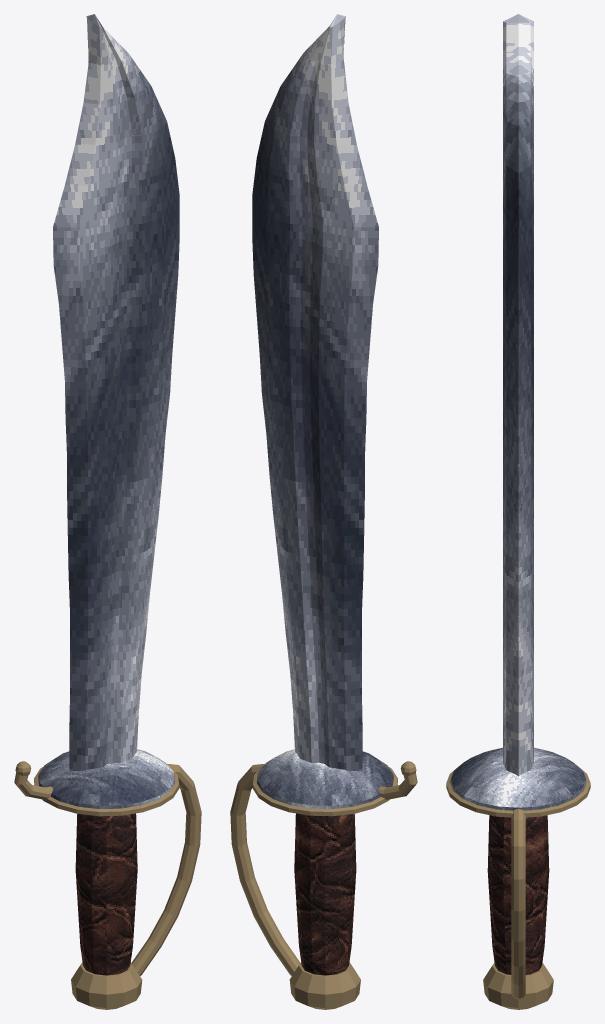
The model's file is sabre_de_abordagem.glb.
3 views of the same model, side by side, from view 1: azimuth 30°, elevation 25°; view 2: azimuth 150°, elevation 25°; view 3: azimuth 270°, elevation 25° (orthographic).
Visible parts, largest first — view 1: Lâmina de abordagem, Cabo de couro, Concha de proteção, Arco de proteção, Pomo, Aro da concha, Haste curta da guarda; view 2: Lâmina de abordagem, Cabo de couro, Concha de proteção, Arco de proteção, Pomo, Aro da concha, Haste curta da guarda; view 3: Lâmina de abordagem, Cabo de couro, Concha de proteção, Arco de proteção, Pomo, Aro da concha.
Part boxes in pixels (<box>): Lâmina de abordagem: <box>53,14,179,771</box>; Cabo de couro: <box>75,813,137,975</box>; Concha de proteção: <box>38,749,174,808</box>; Arco de proteção: <box>131,764,201,975</box>; Pomo: <box>71,962,142,1009</box>; Aro da concha: <box>34,767,179,816</box>; Haste curta da guarda: <box>14,772,52,799</box>; Lâmina de abordagem: <box>252,14,378,771</box>; Cabo de couro: <box>294,813,356,975</box>; Concha de proteção: <box>257,749,393,808</box>; Arco de proteção: <box>230,764,300,975</box>; Pomo: <box>289,962,360,1009</box>; Aro da concha: <box>252,767,397,816</box>; Haste curta da guarda: <box>379,772,417,799</box>; Lâmina de abordagem: <box>503,14,533,776</box>; Cabo de couro: <box>487,815,549,974</box>; Concha de proteção: <box>450,747,586,810</box>; Arco de proteção: <box>511,809,525,999</box>; Pomo: <box>483,962,553,1009</box>; Aro da concha: <box>446,771,590,817</box>.
Bounding box in the file's own units: 0.6903 × 3.52 × 0.47.
3 materials, 2 textured.
